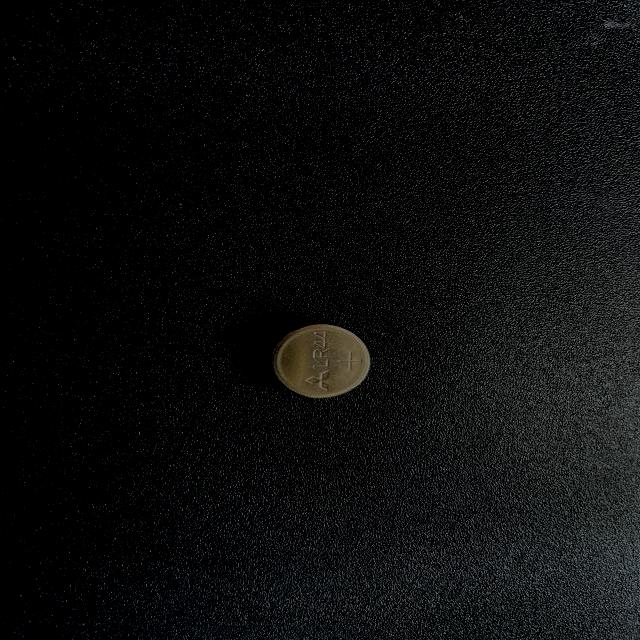COIN: (264, 321, 372, 398)
